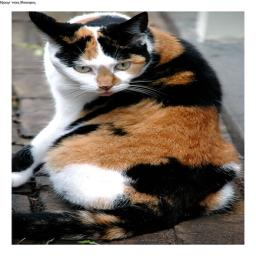catnose: (98, 84, 115, 90)
